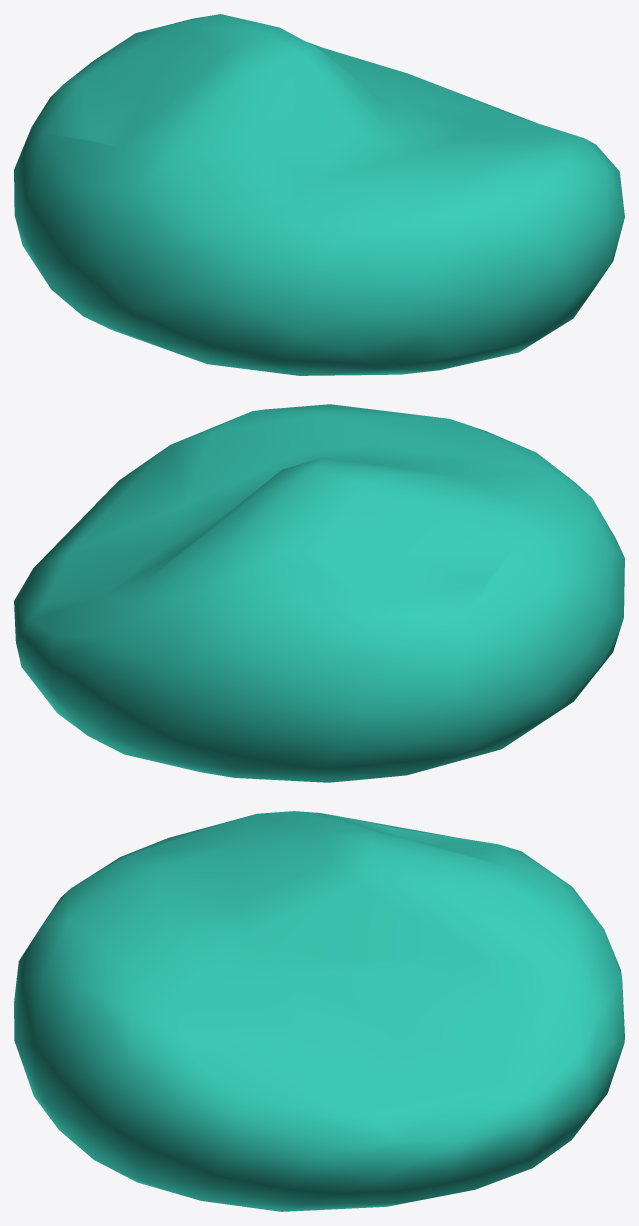
The model's file is dough.FBX.
The picture shows the model from 3 angles, top to bottom: view 1: azimuth 30°, elevation 25°; view 2: azimuth 150°, elevation 25°; view 3: azimuth 270°, elevation 25°; orthographic projection. The views are drawn at different scales.
Visible parts, largest first — view 1: dough; view 2: dough; view 3: dough.
Boxes of the visible parts, x1,y1,x2,y2 form: dough: (14, 14, 624, 375); dough: (14, 404, 624, 782); dough: (14, 811, 624, 1211).
Size of the model in its own units: 31.04 by 14.38 by 30.93.
